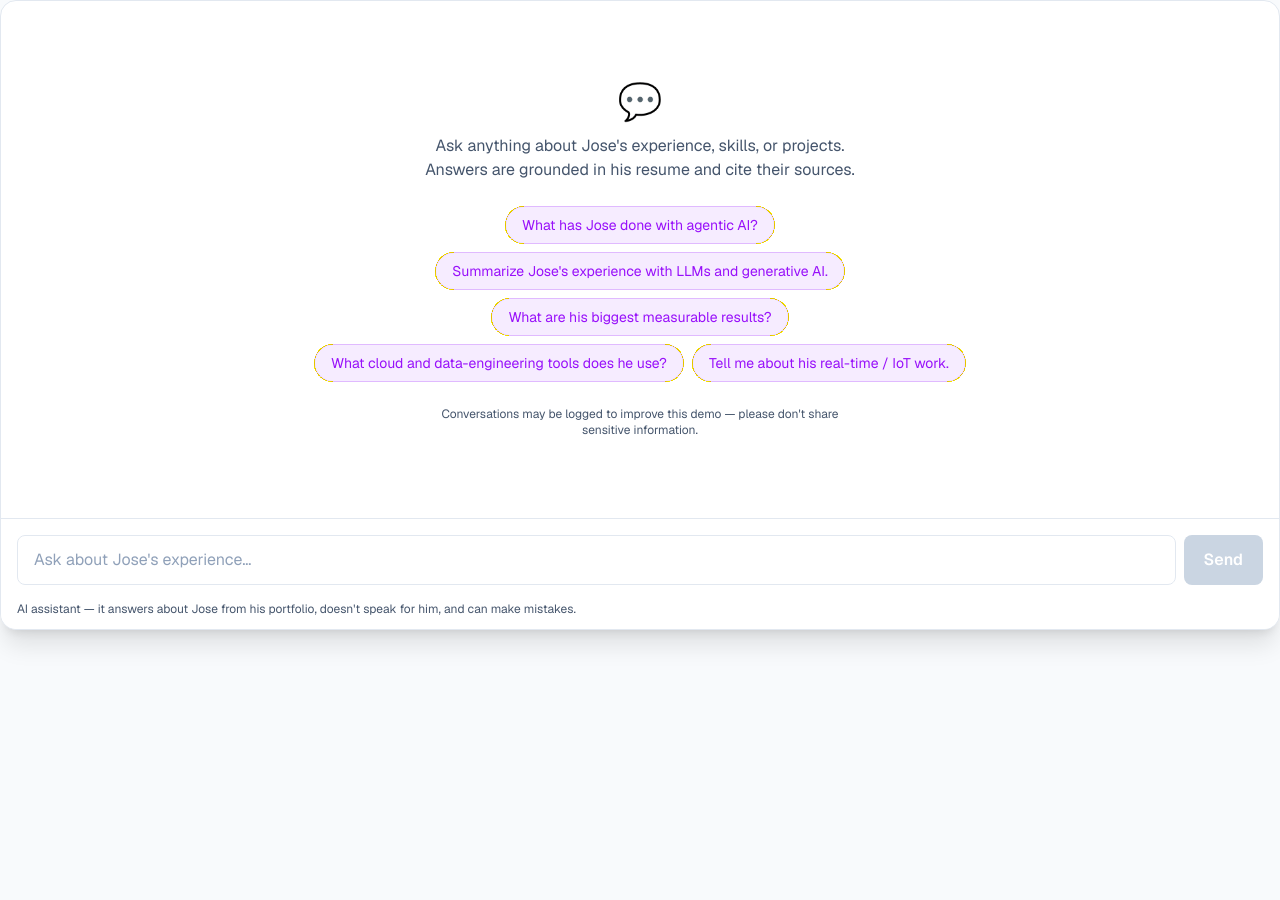
Test: AiChat (streaming) › submits a typed question via the form
Type "What tools?" into the field labelled "Ask about Jose's experience…" at [596, 560], box [17, 535, 1176, 585]
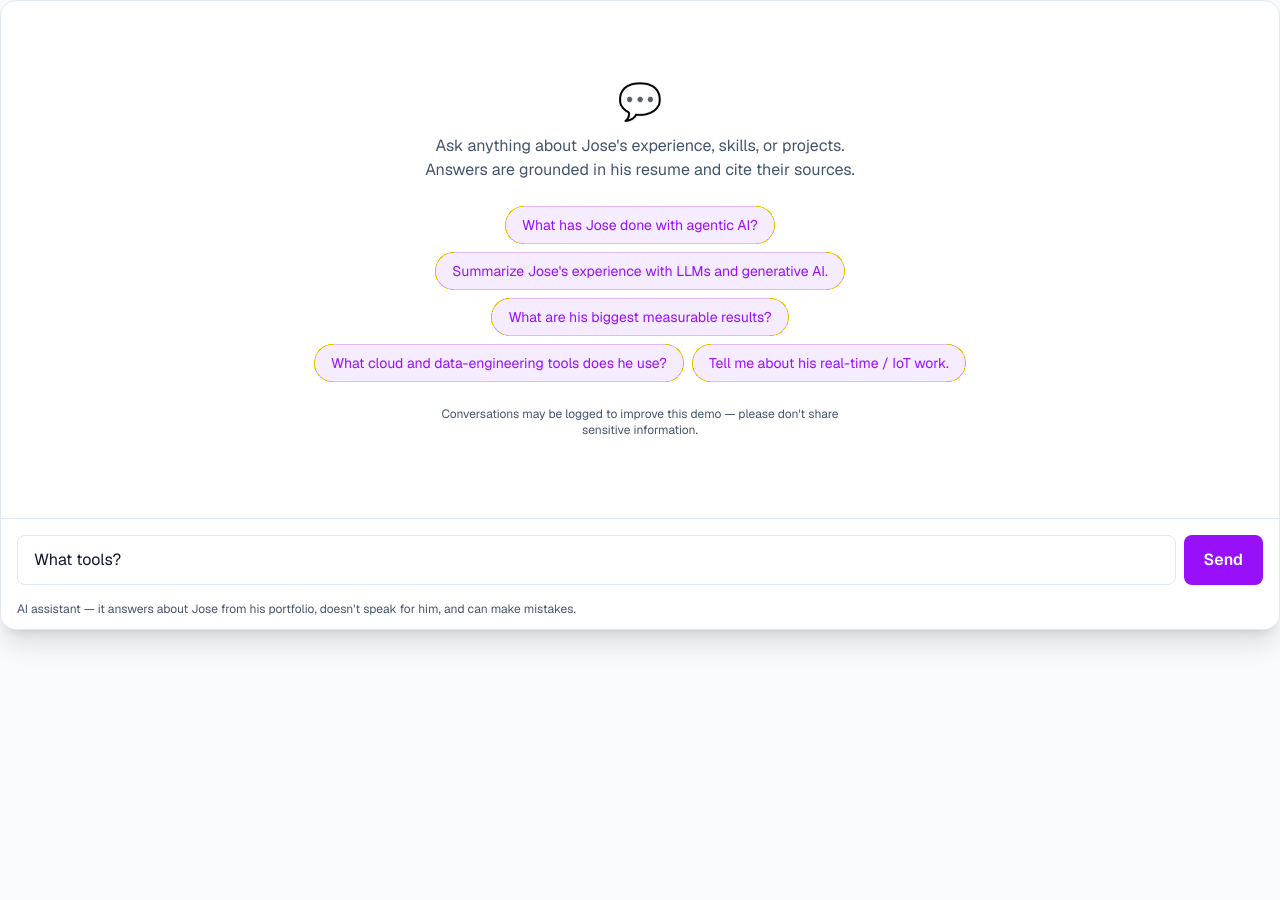
Click the button "Send" at [1223, 560], box [1184, 535, 1263, 585]
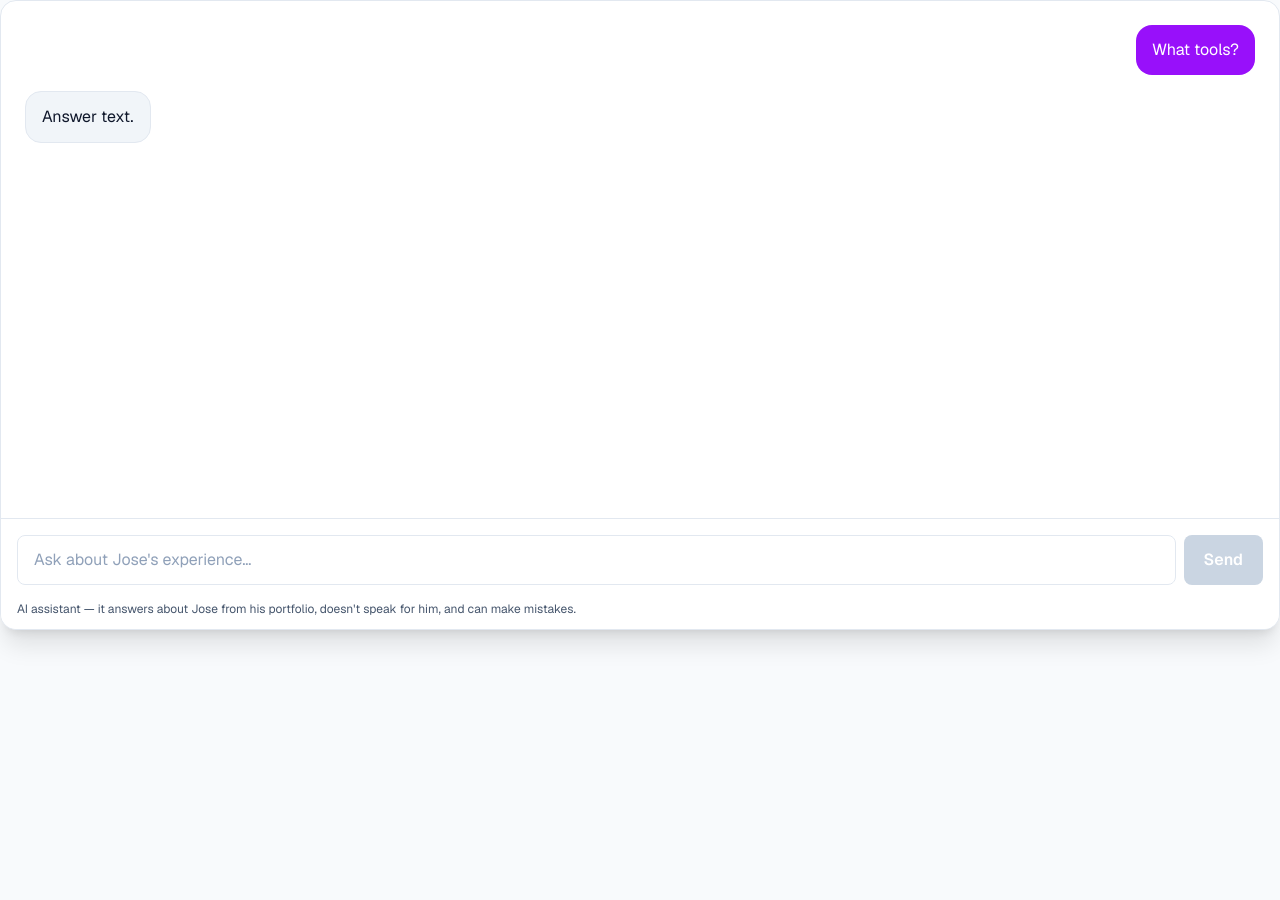
Expected: the text "Answer text." is shown, [42, 104, 134, 130]
Expected: the text "What tools?" is shown, [1152, 37, 1239, 63]
